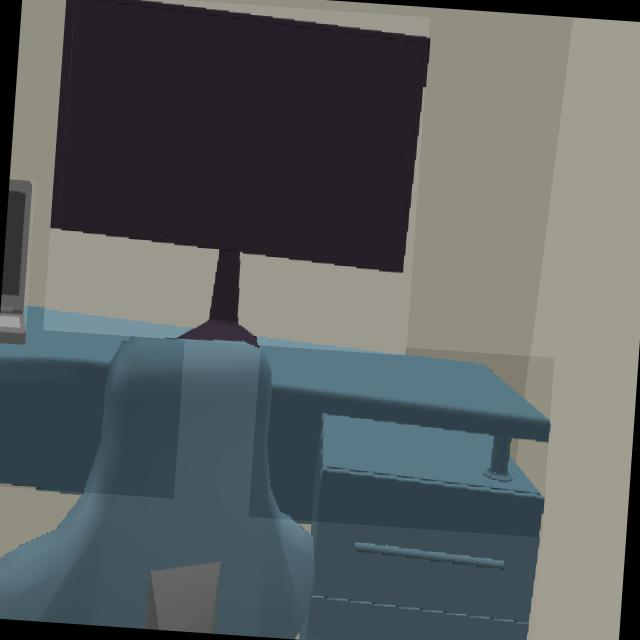cabinet: (307, 418, 544, 640)
laptop: (0, 180, 31, 344)
monitor: (51, 0, 427, 345)
table: (261, 338, 548, 520), (0, 306, 185, 491)
